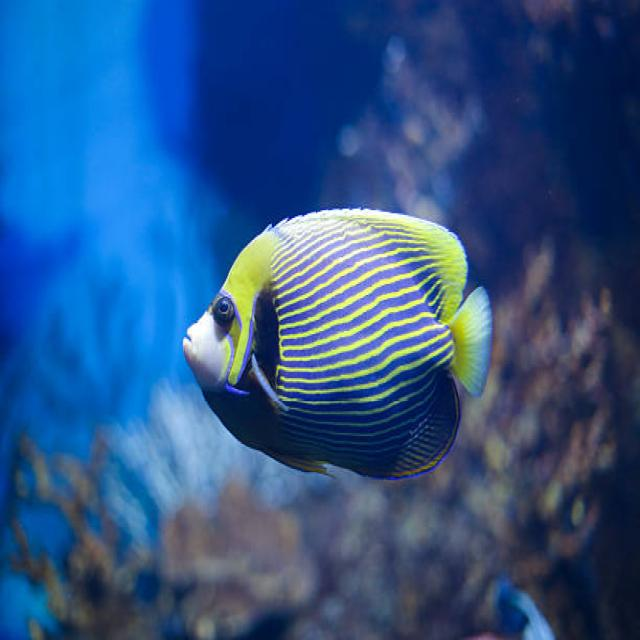AngelFish: (179, 205, 497, 482)
